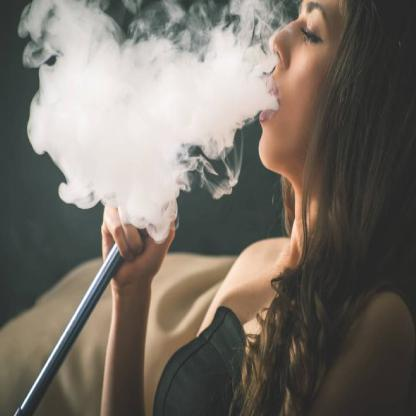person: (244, 0, 416, 415)
smoke: (23, 0, 268, 221)
